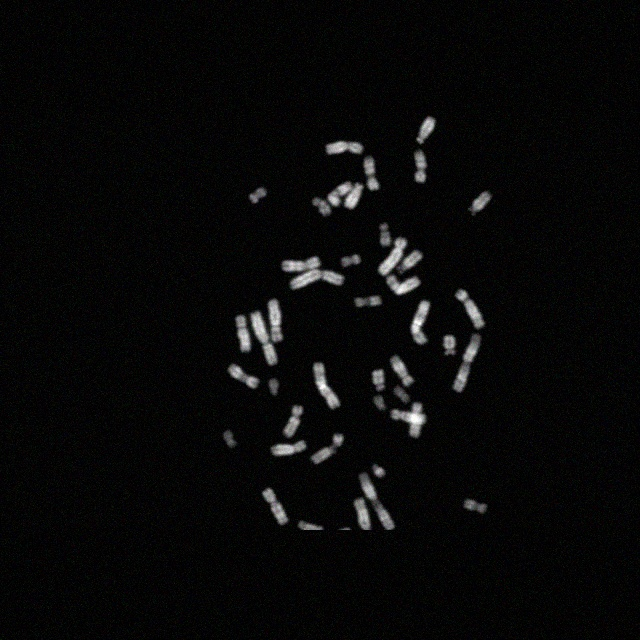chromosome: (361, 472, 394, 530), (453, 334, 481, 392), (252, 312, 278, 366), (314, 362, 340, 410), (455, 290, 485, 328), (290, 271, 344, 291), (378, 238, 406, 276), (262, 488, 288, 524), (312, 433, 344, 462), (410, 300, 430, 344), (228, 364, 258, 388), (391, 356, 414, 386), (386, 276, 420, 296), (269, 301, 283, 343), (468, 192, 492, 216), (326, 140, 362, 156), (328, 183, 352, 207), (284, 406, 302, 438), (270, 440, 306, 456), (397, 252, 423, 274), (346, 182, 366, 210), (364, 157, 380, 191), (281, 258, 319, 272), (416, 116, 434, 144), (408, 402, 422, 438), (236, 316, 250, 352), (391, 411, 427, 423), (354, 295, 382, 309), (414, 152, 426, 182), (310, 197, 330, 215), (464, 498, 486, 514), (249, 187, 265, 203), (394, 387, 410, 403), (373, 370, 385, 390), (380, 224, 390, 246), (444, 336, 456, 354), (342, 255, 360, 267), (224, 430, 236, 448), (268, 378, 278, 396), (373, 464, 385, 478), (374, 396, 384, 410)
